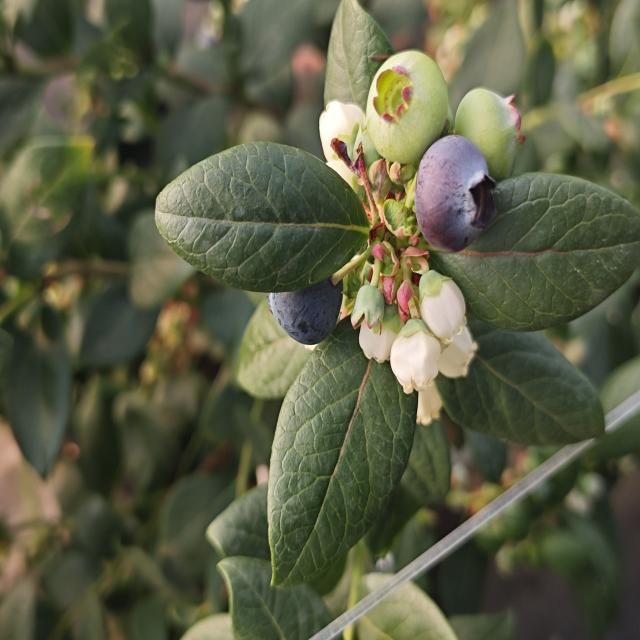ripe: (411, 133, 499, 256), (264, 274, 344, 349)
